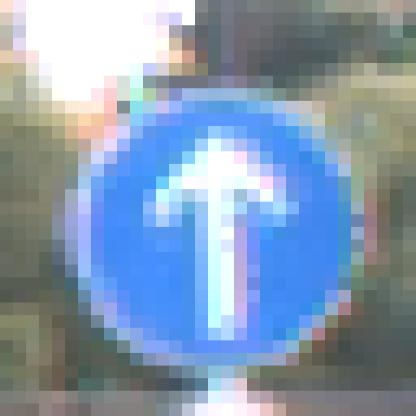AheadOnly: (66, 77, 339, 341)
